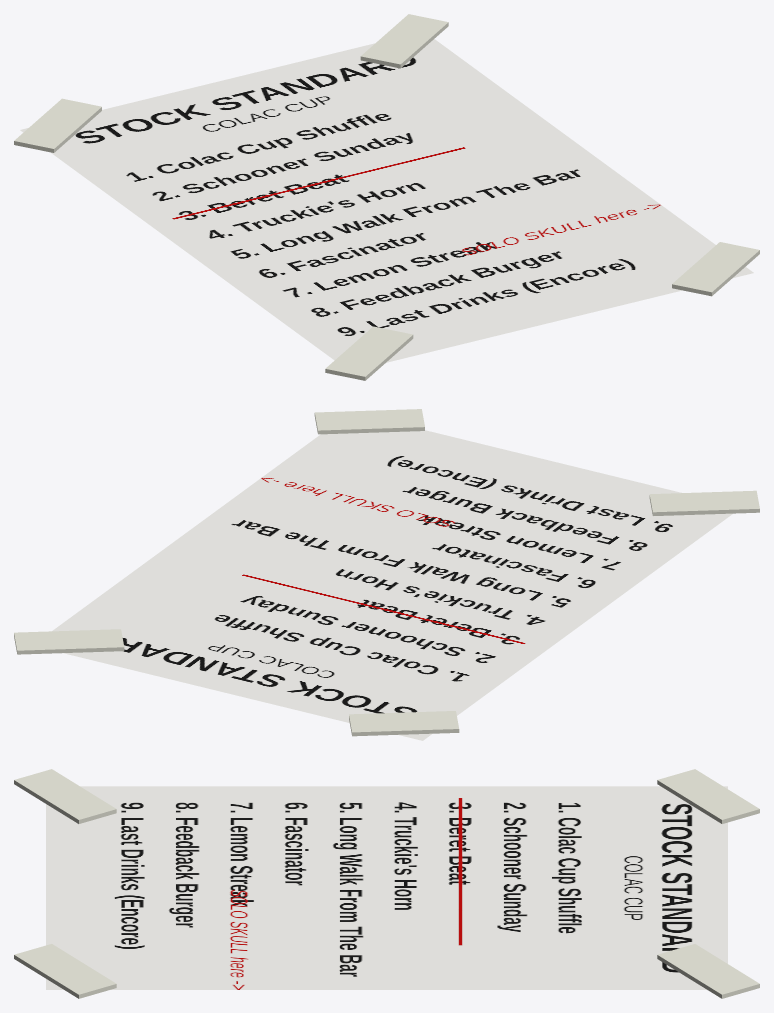
The model's file is setlist.glb.
3 views of the same model, one above another, from view 1: azimuth 30°, elevation 25°; view 2: azimuth 150°, elevation 25°; view 3: azimuth 270°, elevation 25° (orthographic). The views are drawn at different scales.
Parts seen in each view (by area): view 1: setlist_sheet, setlist_tape; view 2: setlist_sheet, setlist_tape; view 3: setlist_sheet, setlist_tape.
Boxes of the visible parts, left/top/right/bottom form: setlist_sheet: left=20, top=39, right=753, bottom=362; setlist_tape: left=14, top=14, right=759, bottom=380; setlist_sheet: left=52, top=430, right=732, bottom=740; setlist_tape: left=14, top=409, right=759, bottom=736; setlist_sheet: left=46, top=786, right=727, bottom=989; setlist_tape: left=14, top=769, right=759, bottom=998.
Size of the model in its own units: 0.2326 by 0.003 by 0.3247.
Materials: 2 (1 with a texture image).
